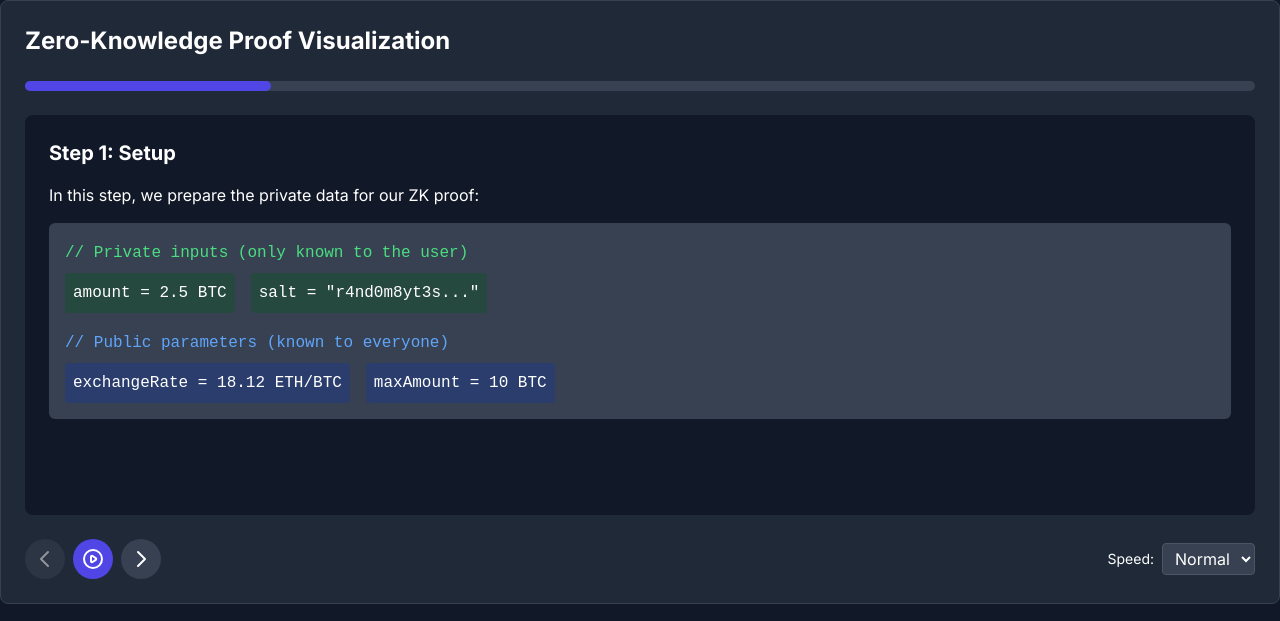
Test: ZKCircuitVisualizer Component › can navigate to the next step
Click the next button
Step 1. Click the button named "next" → (141, 559), box [121,539,161,579]
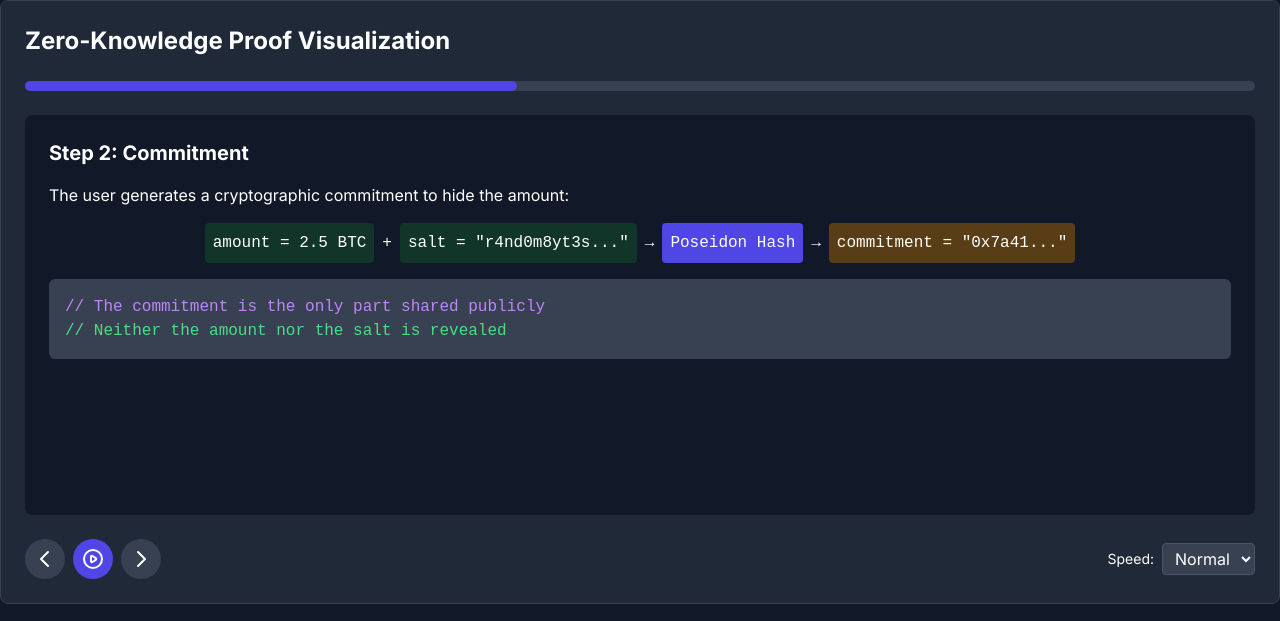
Expected: the heading "Step 2: Commitment" is shown, [49,141,249,165]
